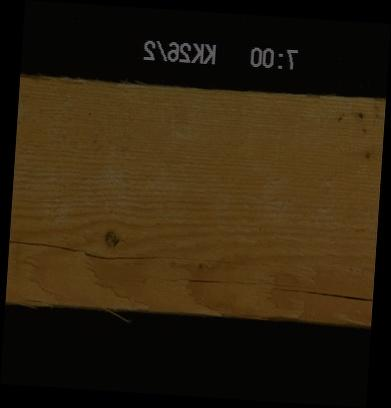small_knot: (363, 148, 373, 161)
sound_knot: (103, 227, 121, 248)
split: (126, 274, 372, 300), (8, 247, 282, 266)
